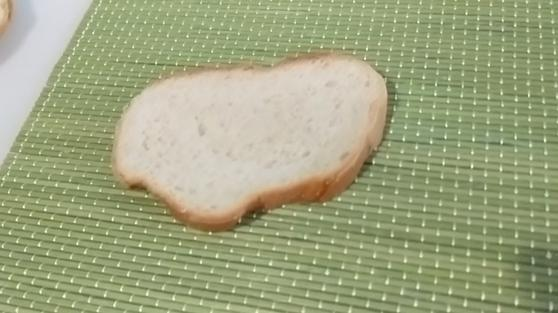white_bread: (121, 56, 393, 225)
